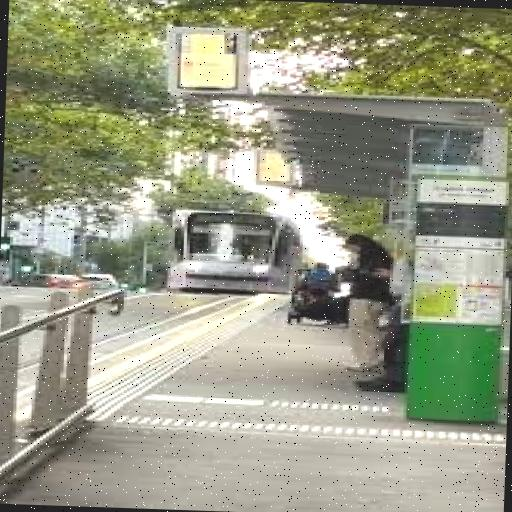clear_path: (21, 319, 403, 508)
handrail: (0, 301, 103, 482)
platform_edge: (91, 296, 248, 379)
signage: (398, 124, 510, 425)
tgsi: (81, 297, 291, 420), (123, 418, 503, 447), (133, 390, 394, 414)
